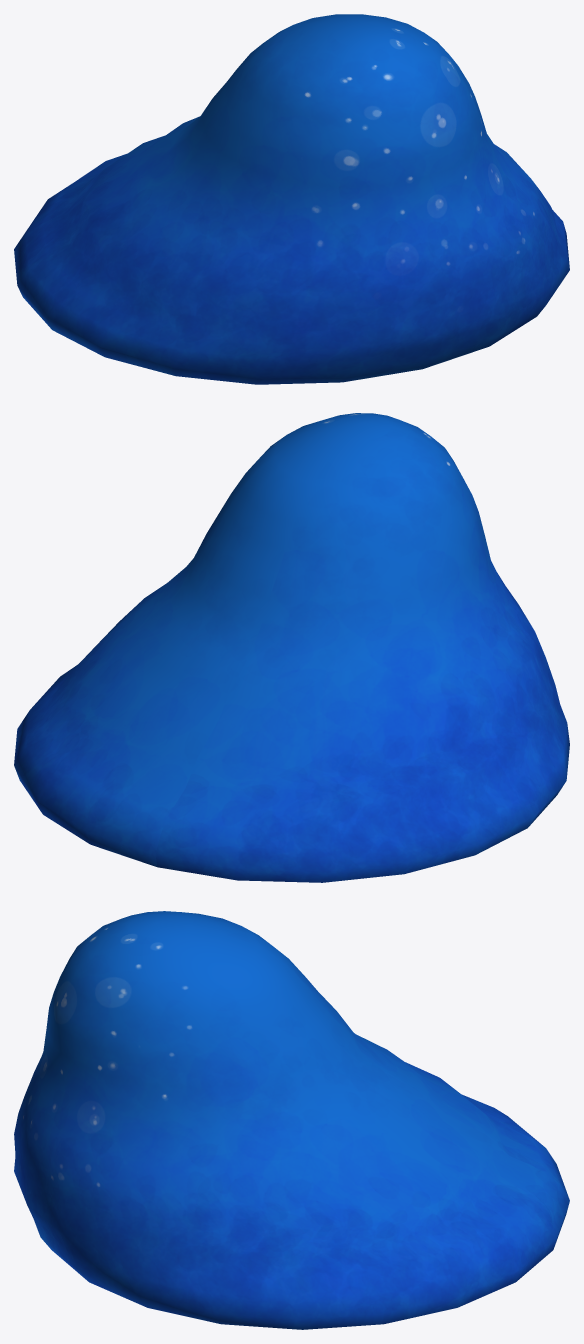
Rendered from BigBlue_K2.fbx.
The picture shows the model from 3 angles, top to bottom: view 1: azimuth 30°, elevation 25°; view 2: azimuth 150°, elevation 25°; view 3: azimuth 270°, elevation 25°; orthographic projection.
Parts seen in each view (by area): view 1: Blue_Enemy; view 2: Blue_Enemy; view 3: Blue_Enemy.
Boxes of the visible parts, bbox=[...] form: Blue_Enemy: bbox=[14, 14, 569, 384]; Blue_Enemy: bbox=[14, 413, 569, 882]; Blue_Enemy: bbox=[14, 911, 569, 1329].
Bounding box in the file's own units: 13.65 × 7.83 × 13.52.
